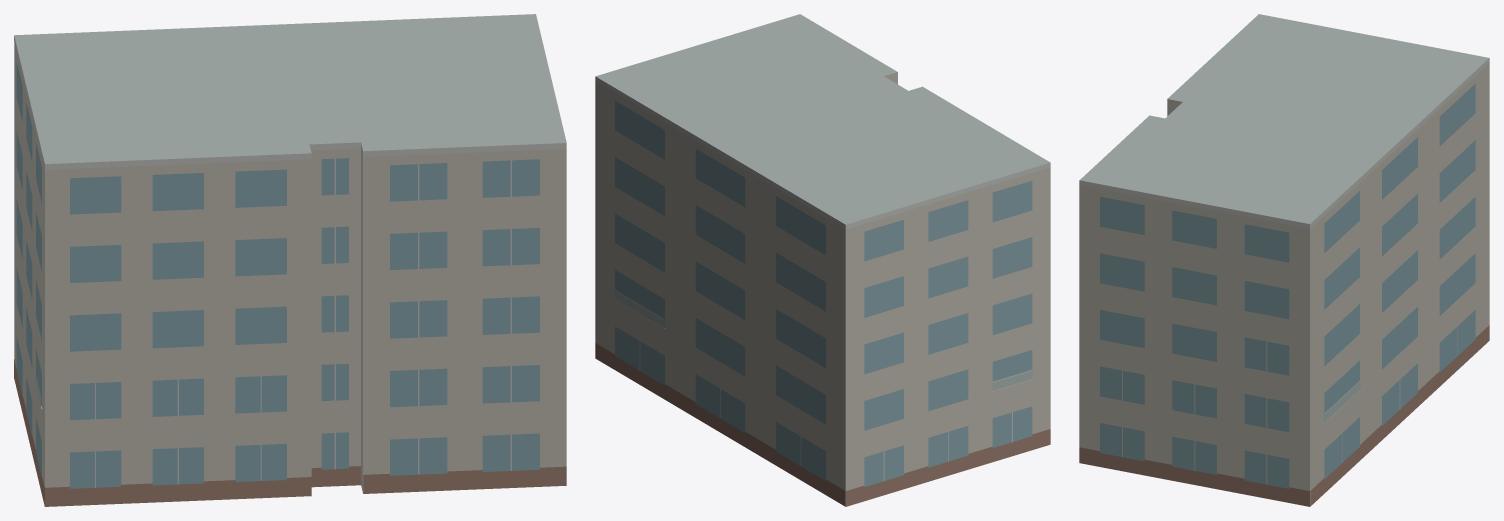
File: survey-upis-32525158.glb
3 renders of one model, left to right at view 1: azimuth 30°, elevation 25°; view 2: azimuth 150°, elevation 25°; view 3: azimuth 270°, elevation 25°, orthographic. The views are drawn at different scales.
Parts seen in each view (by area): view 1: survey-upis-32525158.tmp; view 2: survey-upis-32525158.tmp; view 3: survey-upis-32525158.tmp.
Boxes of the visible parts, x1,y1,x2,y2 form: survey-upis-32525158.tmp: (14, 14, 566, 506); survey-upis-32525158.tmp: (595, 14, 1050, 506); survey-upis-32525158.tmp: (1079, 14, 1489, 506).
Bounding box in the file's own units: 23.12 × 14.5 × 19.07.
